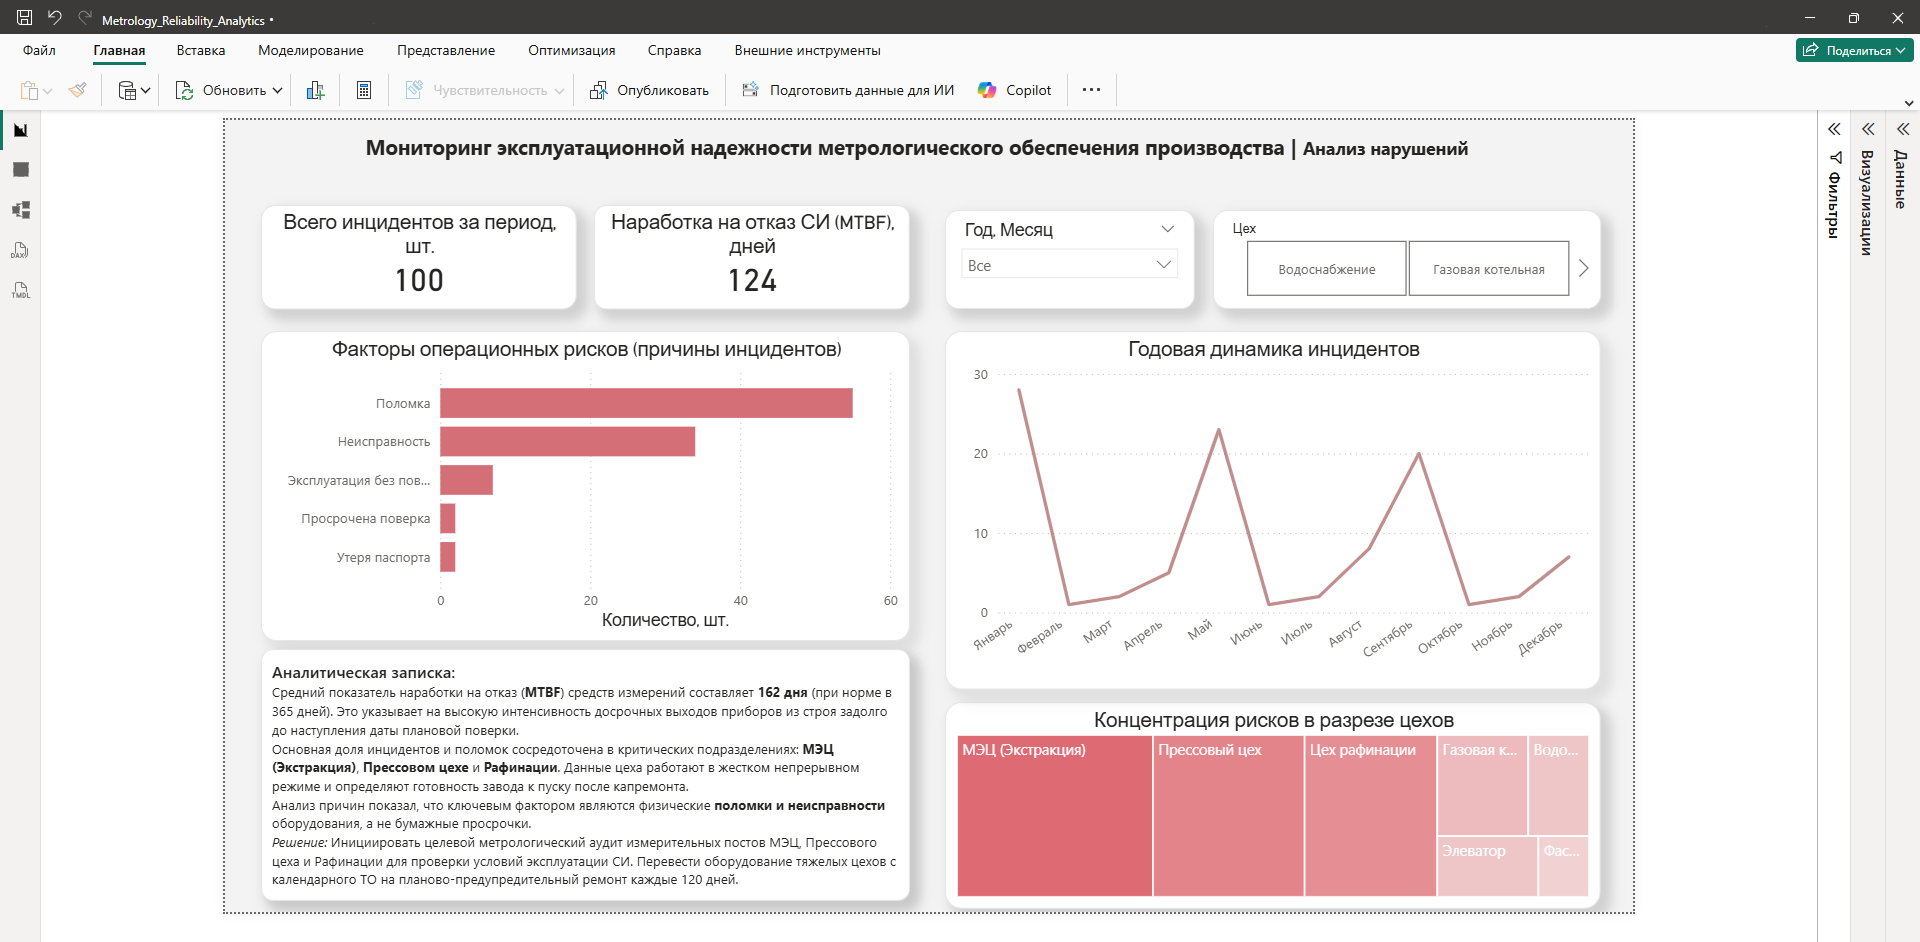

Layout of this report page (visuals, bound fields, positions):
{"tool":"powerbi","page":{"name":"Анализ нарушений","canvas":[1280,720],"ordinal":2},"visuals":[{"type":"barChart","title":"Факторы операционных рисков (причины инцидентов)","fields":{"Category":["Нарушения.Тип_нарушения"],"Y":["CountNonNull(Нарушения.Заводской_номер)"]},"box":[32.7,191.8,590,281.8],"z":0},{"type":"treemap","title":"Концентрация рисков в разрезе цехов","fields":{"Group":["Приборы.Цех"],"Values":["Меры.Колич_нарушений"]},"box":[654.6,529.3,596.4,188.1],"z":1000},{"type":"lineChart","title":"Годовая динамика инцидентов","fields":{"Y":["Меры.Колич_нарушений"],"Category":["Календарь.Date.Изменение.Иерархия дат.Месяц"]},"box":[654.6,191.6,596.4,326],"z":2000},{"type":"slicer","fields":{"Values":["Календарь.Date.Изменение.Иерархия дат.Год","Календарь.Date.Изменение.Иерархия дат.Месяц"]},"box":[654.6,81.5,226.6,90.4],"z":3000},{"type":"slicer","fields":{"Values":["Цеха.Цех"]},"box":[898.2,81.5,352.8,90.4],"z":4000},{"type":"card","title":"Всего инцидентов за период, шт.","fields":{"Values":["Меры.Колич_нарушений"]},"box":[33.1,77,286.6,94.9],"z":5000},{"type":"card","title":"Наработка на отказ СИ (MTBF), дней","fields":{"Values":["Меры.Мера"]},"box":[335.8,77,286.6,94.9],"z":6000},{"type":"textbox","box":[122.7,6.3,1034.3,40.3],"z":7000},{"type":"textbox","box":[32.7,480.9,590,229.1],"z":8000}]}

Visuals, with their boxes on the page's 1280x720 design canvas (x1, y1, x2, y2). These are canvas units, not pixel positions in the 1920x942 screenshot, which may show the page scaled, cropped or inside an application window:
"Факторы операционных рисков (причины инцидентов)" barChart: 33, 192, 623, 474
"Концентрация рисков в разрезе цехов" treemap: 655, 529, 1251, 717
"Годовая динамика инцидентов" lineChart: 655, 192, 1251, 518
slicer - Календарь.Date.Изменение.Иерархия дат.Год x Календарь.Date.Изменение.Иерархия дат.Месяц: 655, 82, 881, 172
slicer - Цеха.Цех: 898, 82, 1251, 172
"Всего инцидентов за период, шт." card: 33, 77, 320, 172
"Наработка на отказ СИ (MTBF), дней" card: 336, 77, 622, 172
textbox: 123, 6, 1157, 47
textbox: 33, 481, 623, 710
